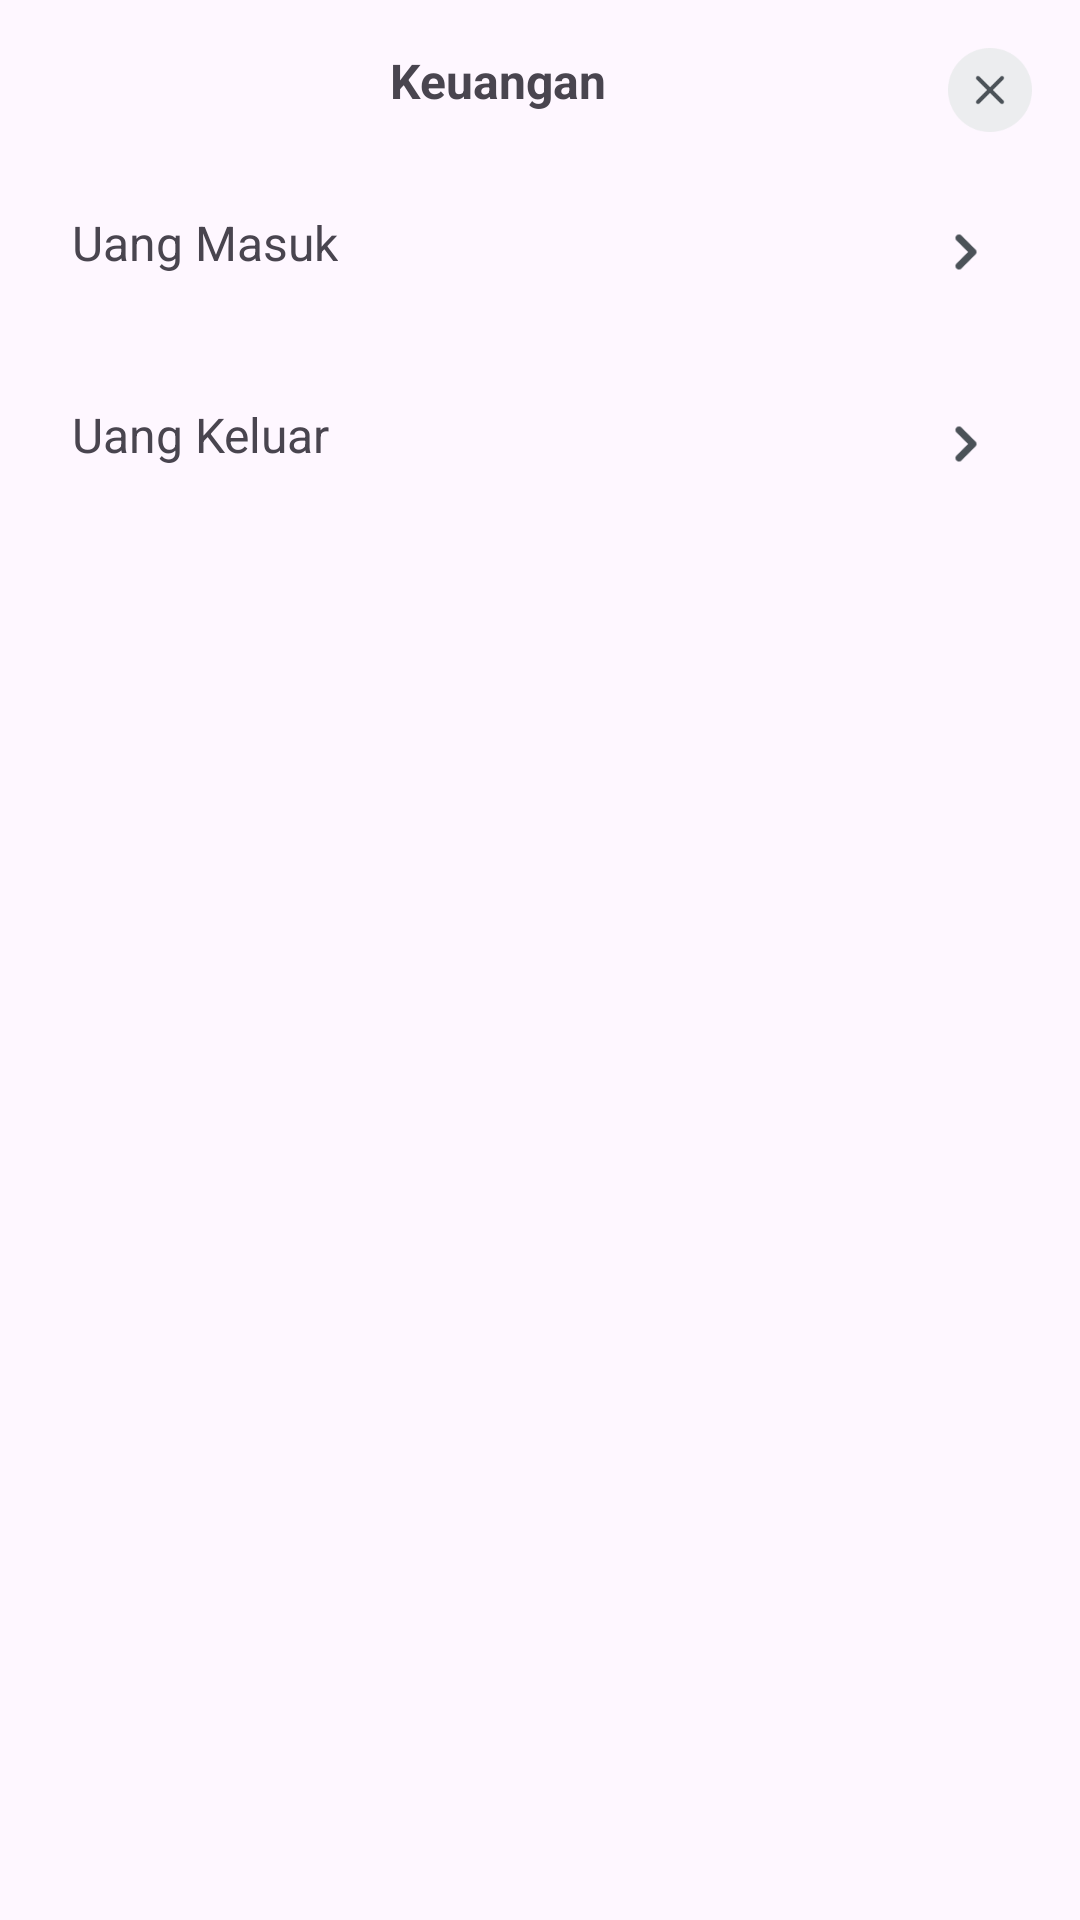

Icon click points for this 1080×1920 phone screenshot, format [x,y]:
close: [990,90]
right arrow: [966,252], [966,444]
